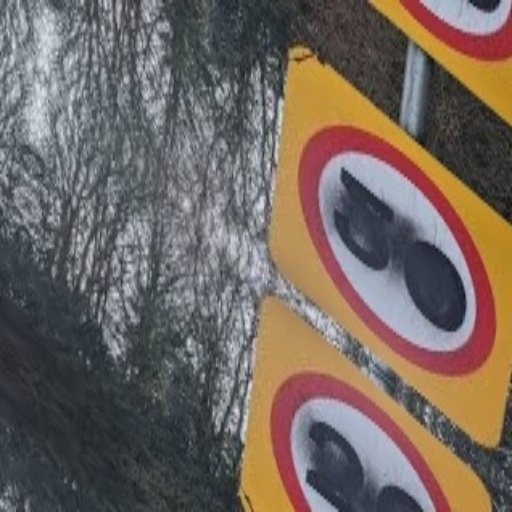Speed limit: (257, 81, 511, 376)
